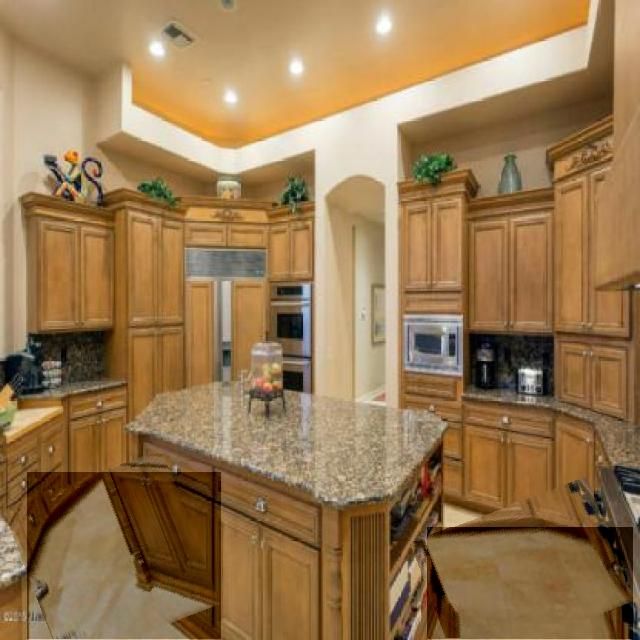floor: (27, 473, 221, 640), (428, 528, 633, 639)
